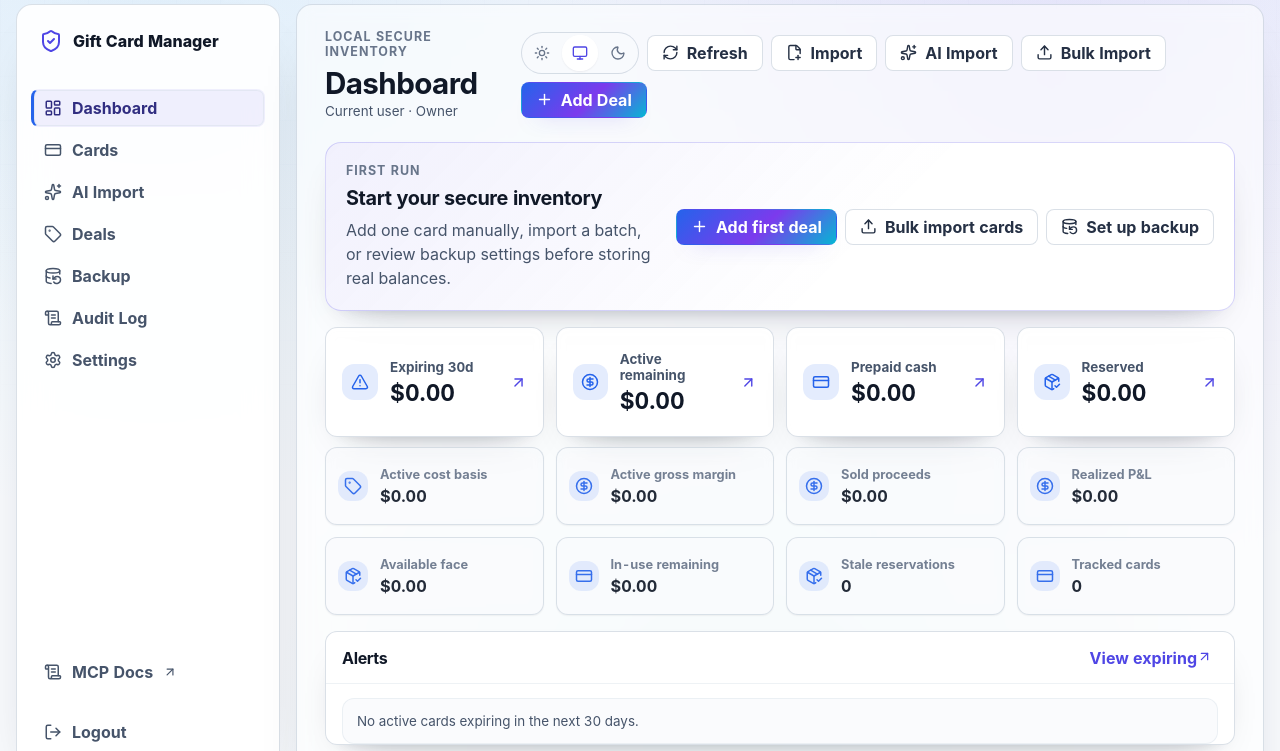
Test: App › exports plaintext JSON from the backup view with confirmation controls
Expected: the heading "Dashboard" is shown, 325,67 -> 503,100
Click the button "Backup" at (148, 276), box 31,257 -> 265,295
(page scrolled)
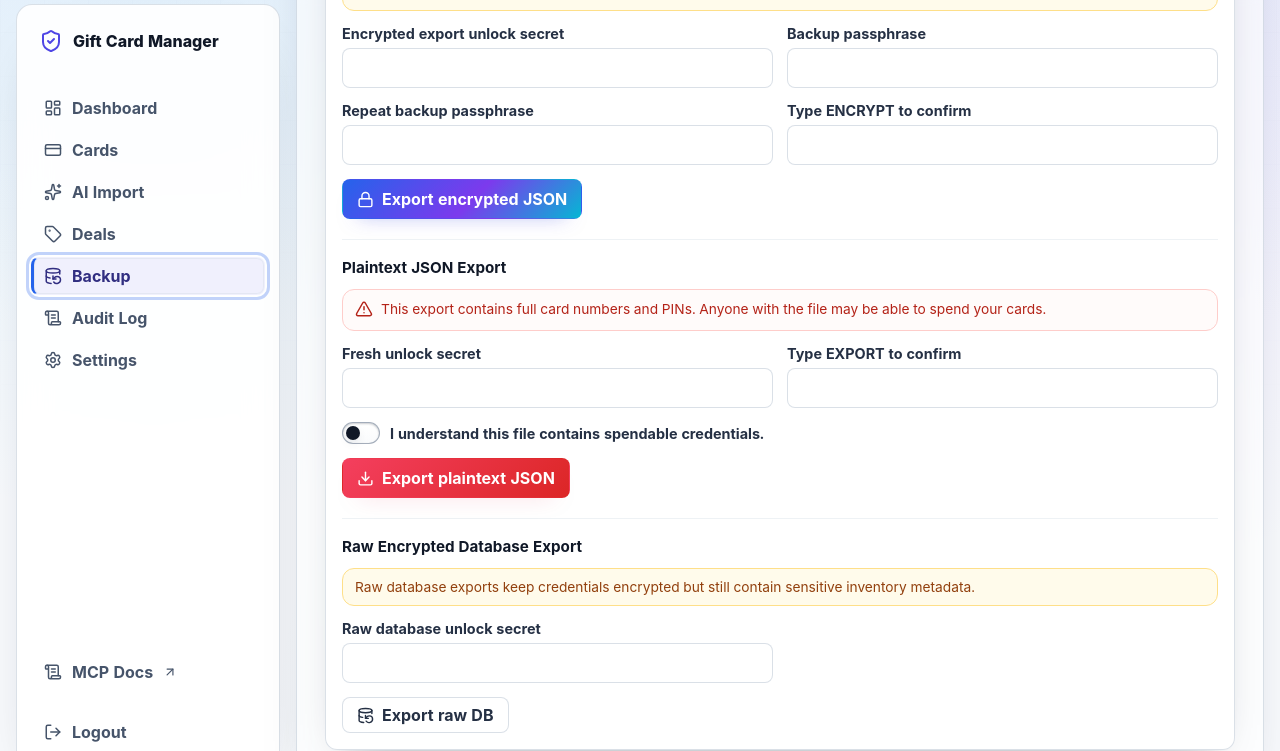
Type "a strong unlock phrase" into the password field labelled "Fresh unlock secret" at (558, 388), box 342,368 -> 773,408
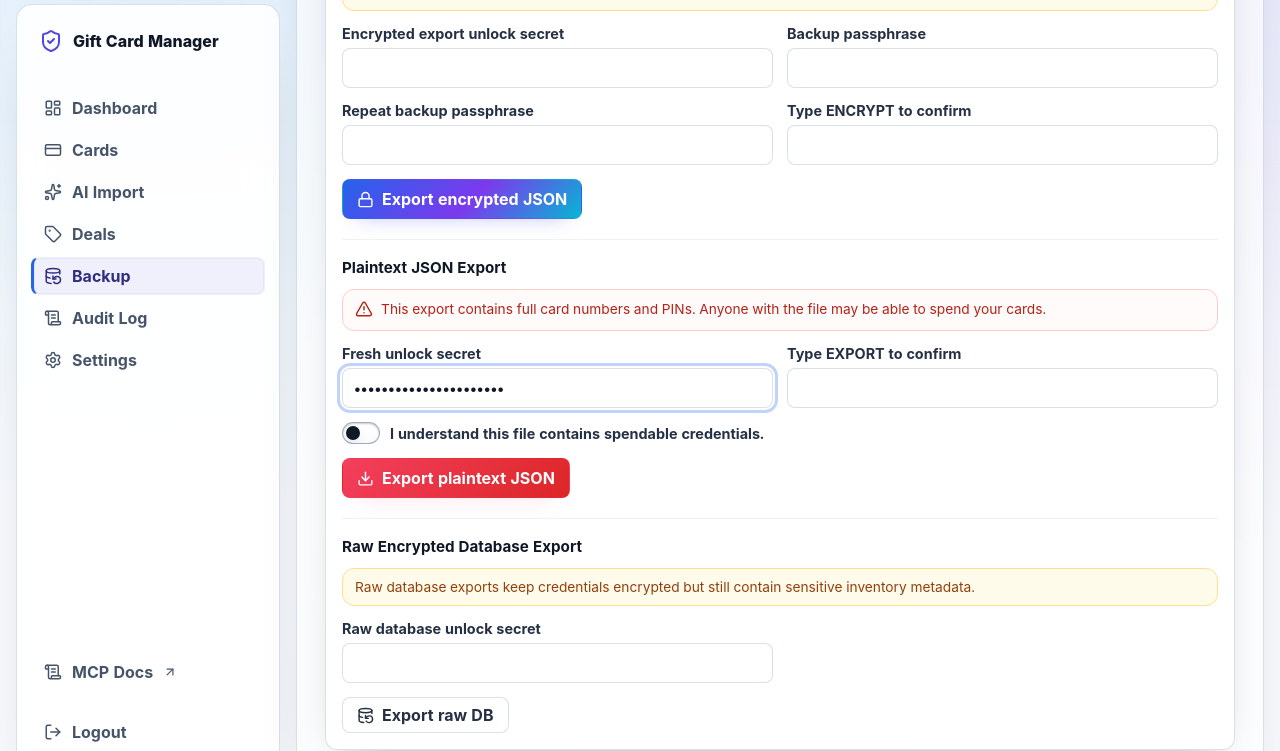
Type "EXPORT" into the field labelled "Type EXPORT to confirm" at (1002, 388), box 787,368 -> 1218,408
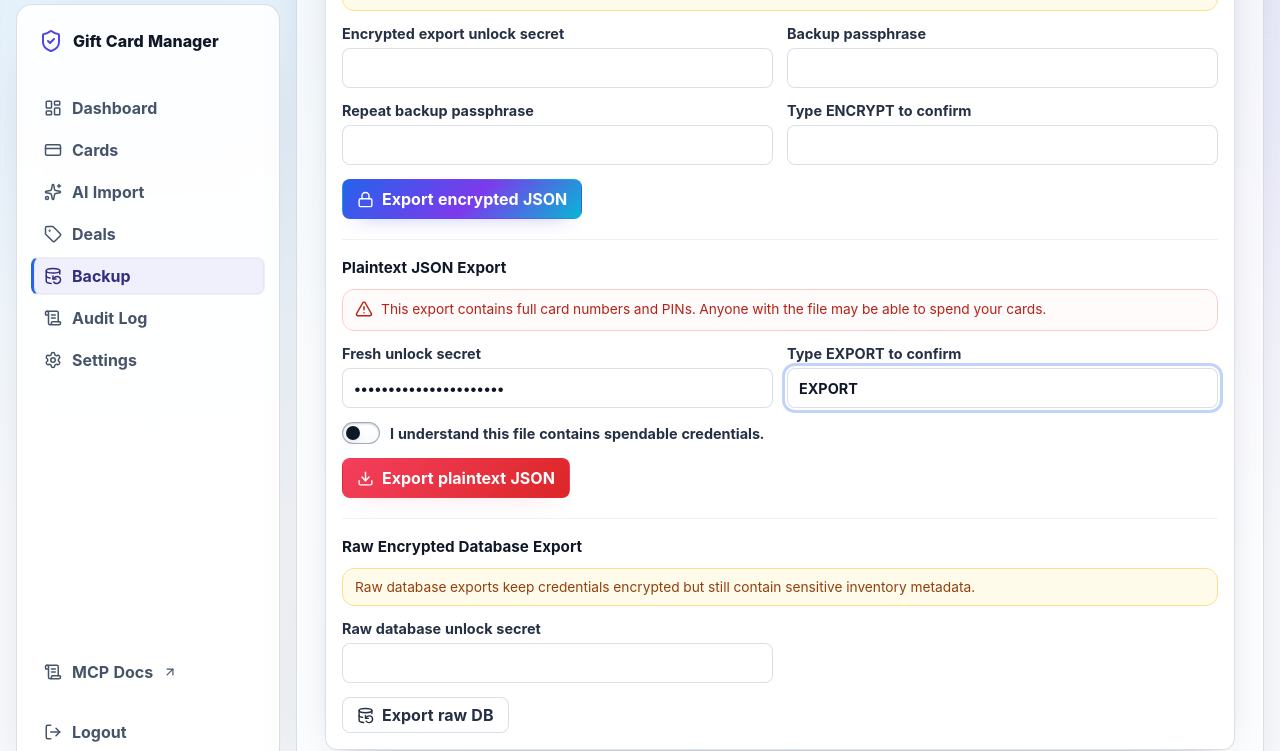
Click the checkbox labelled "I understand this file contains spendable credentials." at (361, 433), box 342,422 -> 380,444
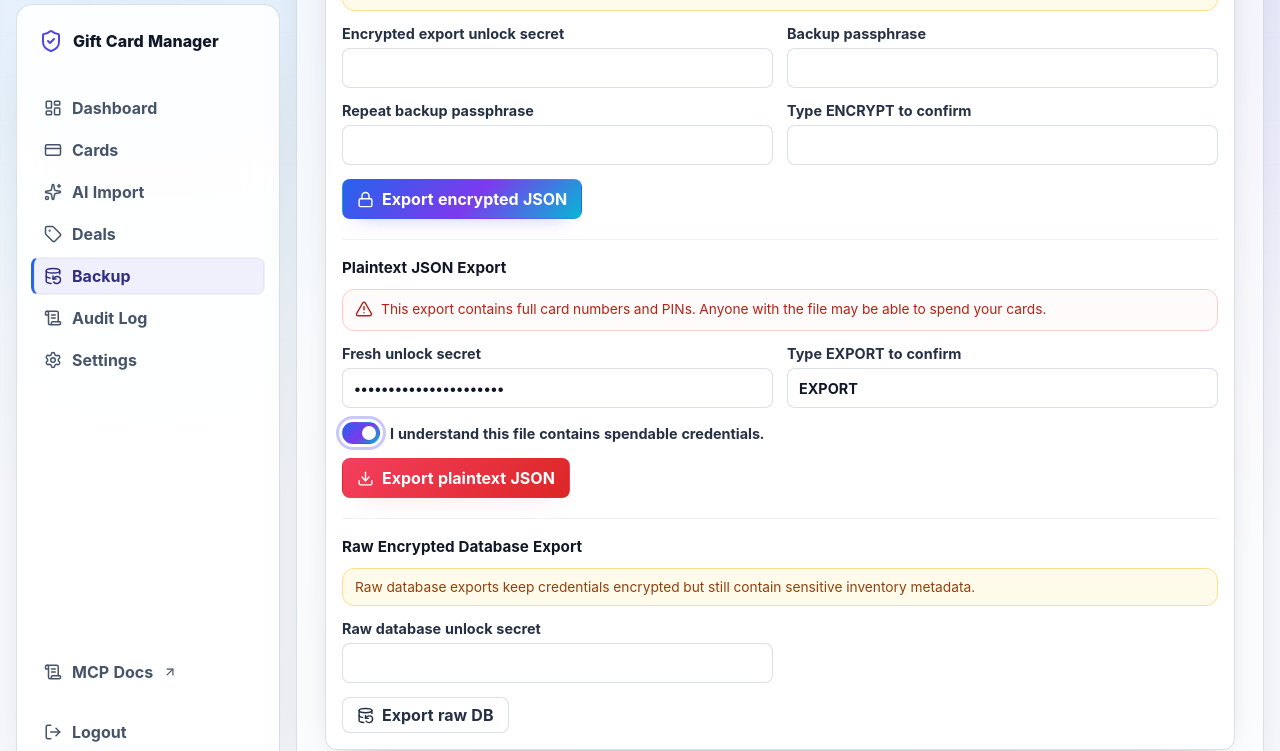
Click the button "Export plaintext JSON" at (456, 478), box 342,458 -> 570,498
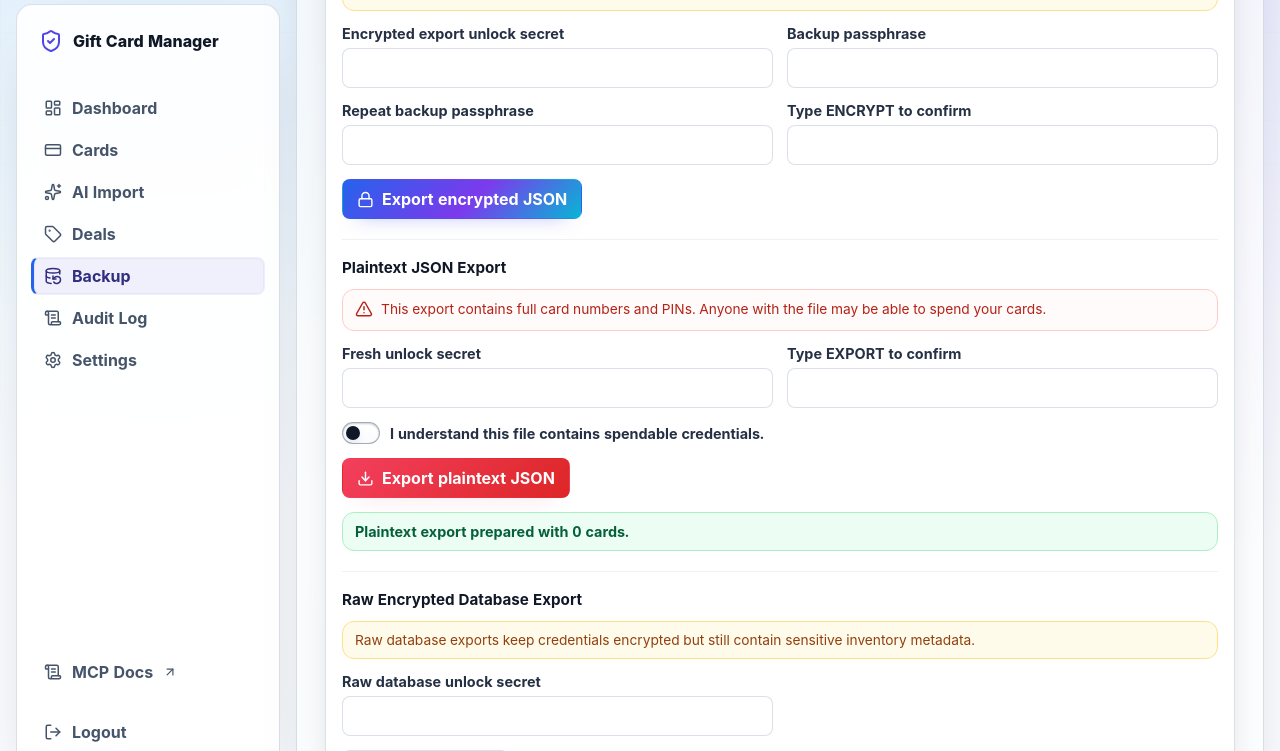
Now the text "Plaintext export prepared with 0 cards." is shown, box 342,512 -> 1218,551
